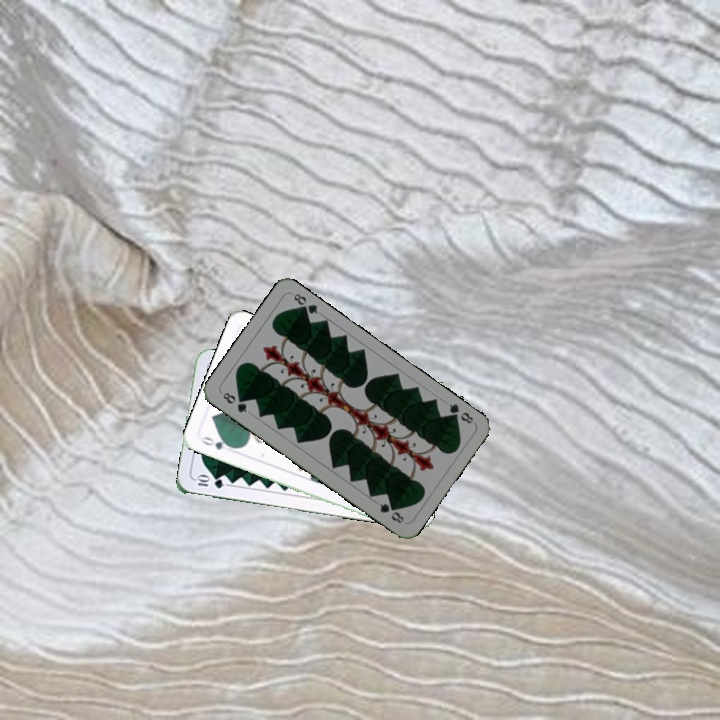G10: (191, 472, 226, 491)
G8: (444, 399, 476, 426), (218, 388, 249, 415)
GO: (198, 432, 237, 452)
